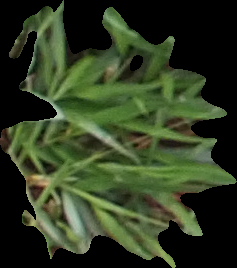grass: (1, 1, 235, 266)
